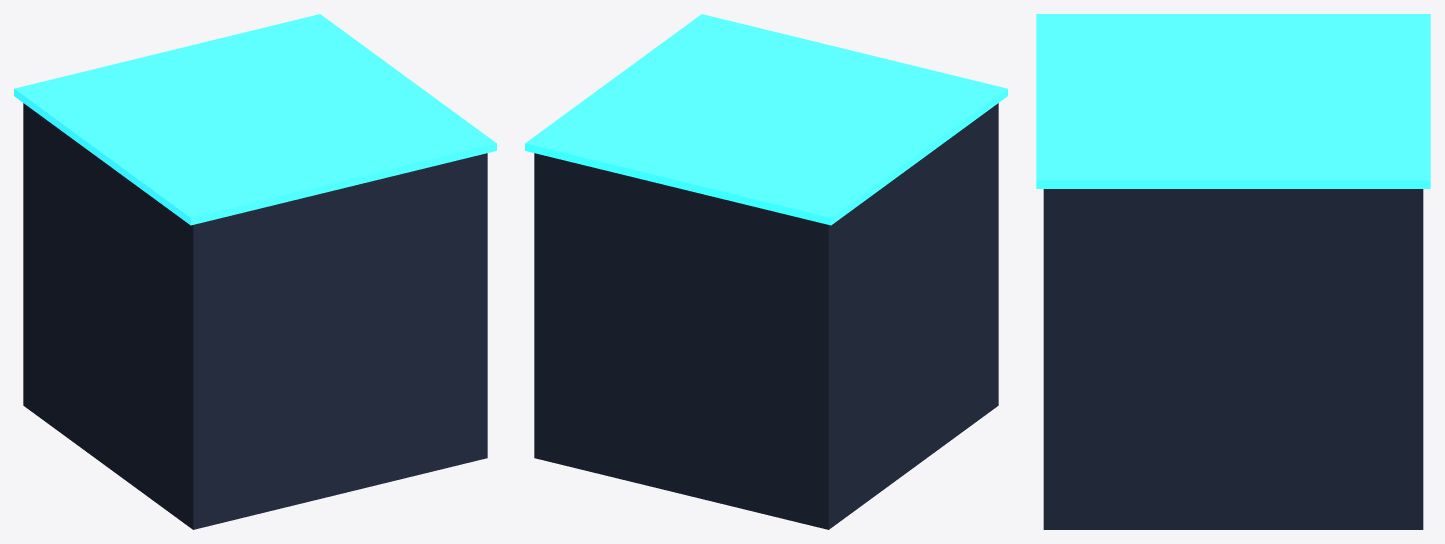
The model's file is oldtown-shop.gltf.
The picture shows the model from 3 angles, left to right: view 1: azimuth 30°, elevation 25°; view 2: azimuth 150°, elevation 25°; view 3: azimuth 270°, elevation 25°; orthographic projection. The views are drawn at different scales.
Parts seen in each view (by area): view 1: structure, neon-cornice; view 2: structure, neon-cornice; view 3: structure, neon-cornice.
Boxes of the visible parts, x1,y1,x2,y2 form: structure: (23, 103, 487, 529); neon-cornice: (14, 14, 496, 225); structure: (534, 103, 998, 529); neon-cornice: (525, 14, 1007, 225); structure: (1043, 189, 1423, 529); neon-cornice: (1036, 14, 1430, 188).
Bounding box in the file's own units: 9.35 × 9.22 × 9.35.
